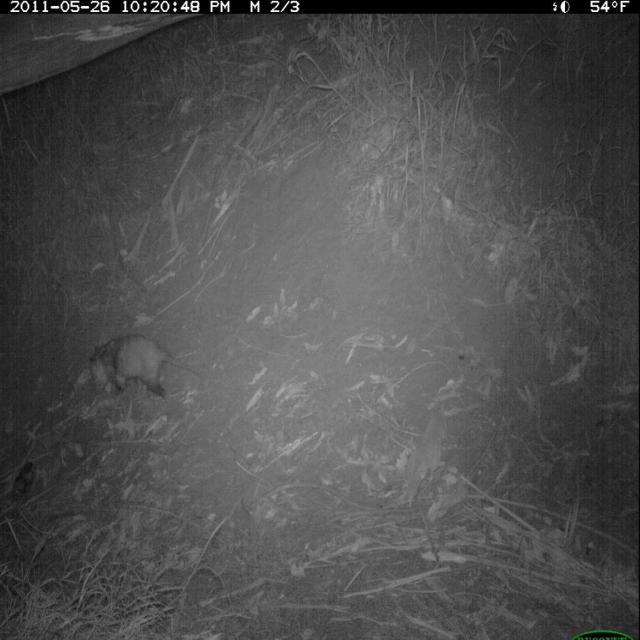opossum: (82, 327, 213, 432)
